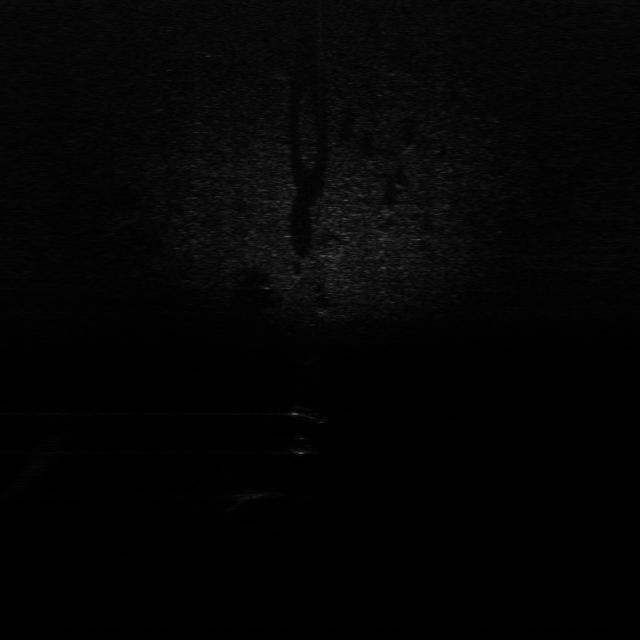ball: (282, 435, 319, 457)
square cage: (232, 486, 288, 507)
tyre: (287, 403, 333, 427)
